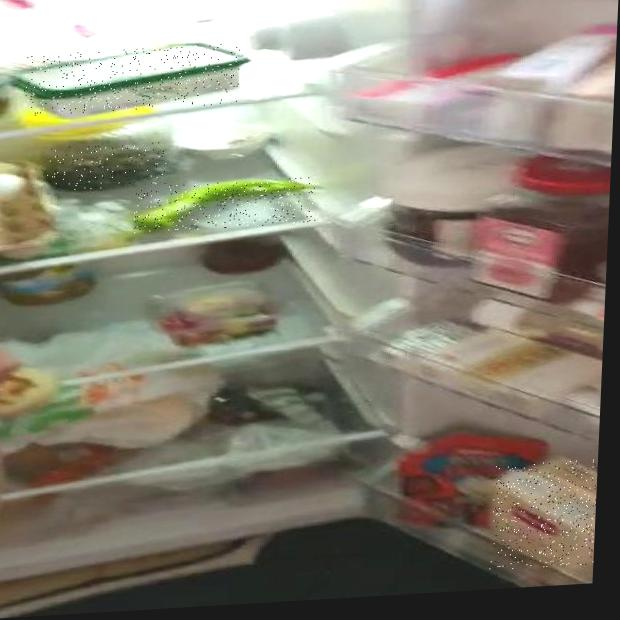cream cheese: (23, 43, 241, 116)
green chilies: (133, 177, 318, 233)
milk: (489, 459, 598, 570)
olives: (42, 141, 169, 192)
